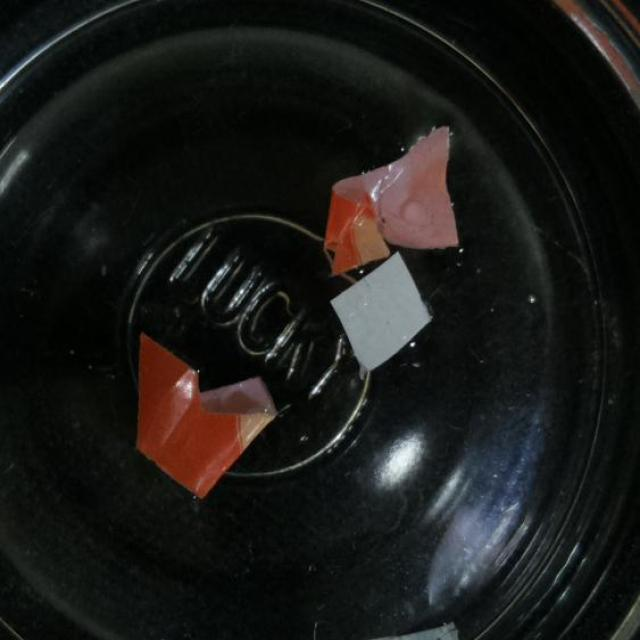fiber: (127, 328, 277, 501), (323, 122, 458, 275), (330, 250, 435, 370)
